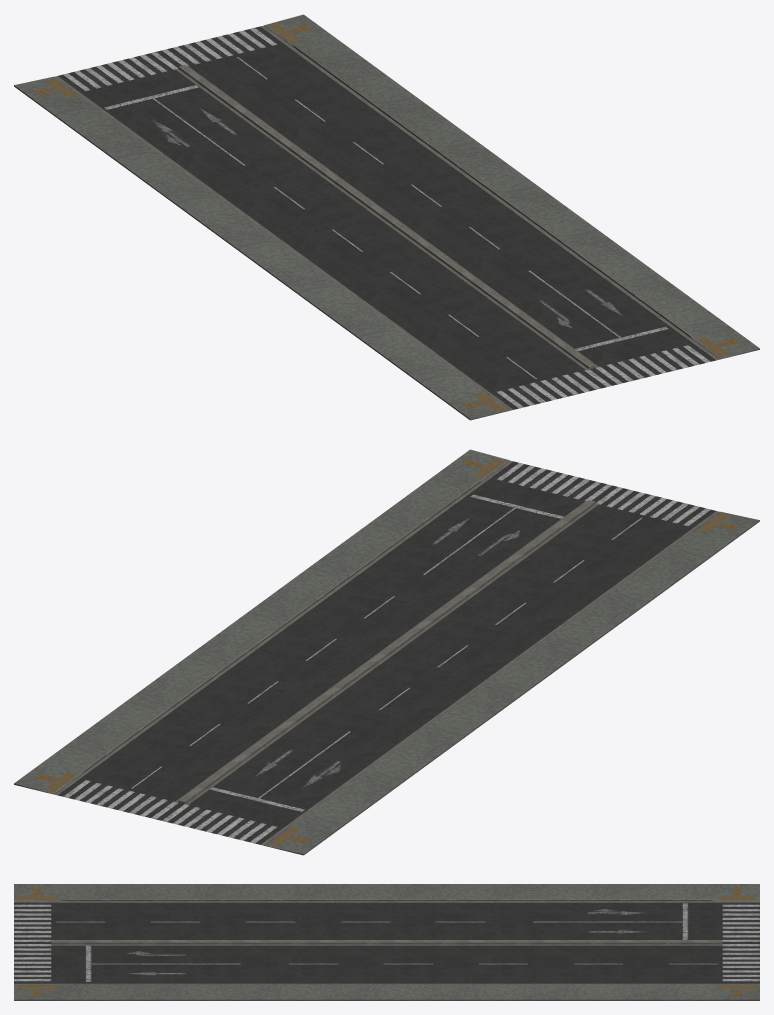
File: jctlowRoad22mA_b.fbx
The picture shows the model from 3 angles, top to bottom: view 1: azimuth 30°, elevation 25°; view 2: azimuth 150°, elevation 25°; view 3: azimuth 270°, elevation 25°; orthographic projection. The views are drawn at different scales.
Visible parts, largest first — view 1: jctlowRoad22mA_b; view 2: jctlowRoad22mA_b; view 3: jctlowRoad22mA_b.
Part boxes in pixels (box(x1,y1,x2,y2)): jctlowRoad22mA_b: box(14, 14, 759, 420); jctlowRoad22mA_b: box(14, 449, 759, 855); jctlowRoad22mA_b: box(14, 884, 759, 1000).
Size of the model in its own units: 2200 by 15 by 6000.
Materials: 3 (3 with a texture image).
